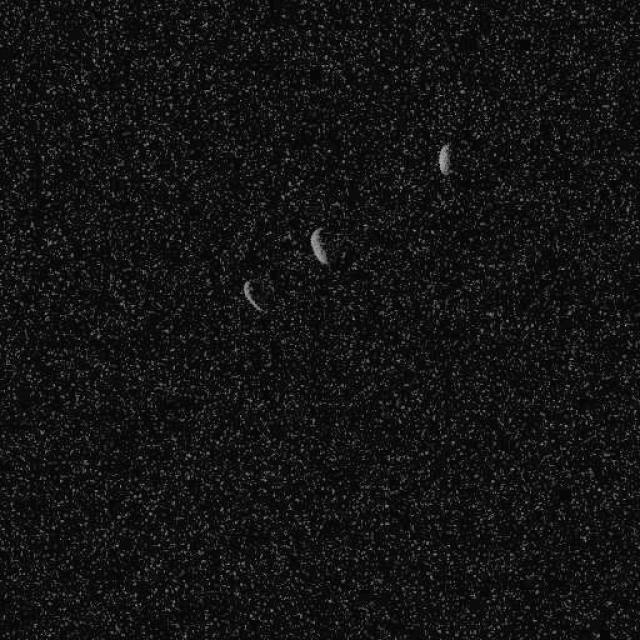D2: (309, 225, 330, 267), (241, 278, 264, 312), (437, 141, 452, 175)
